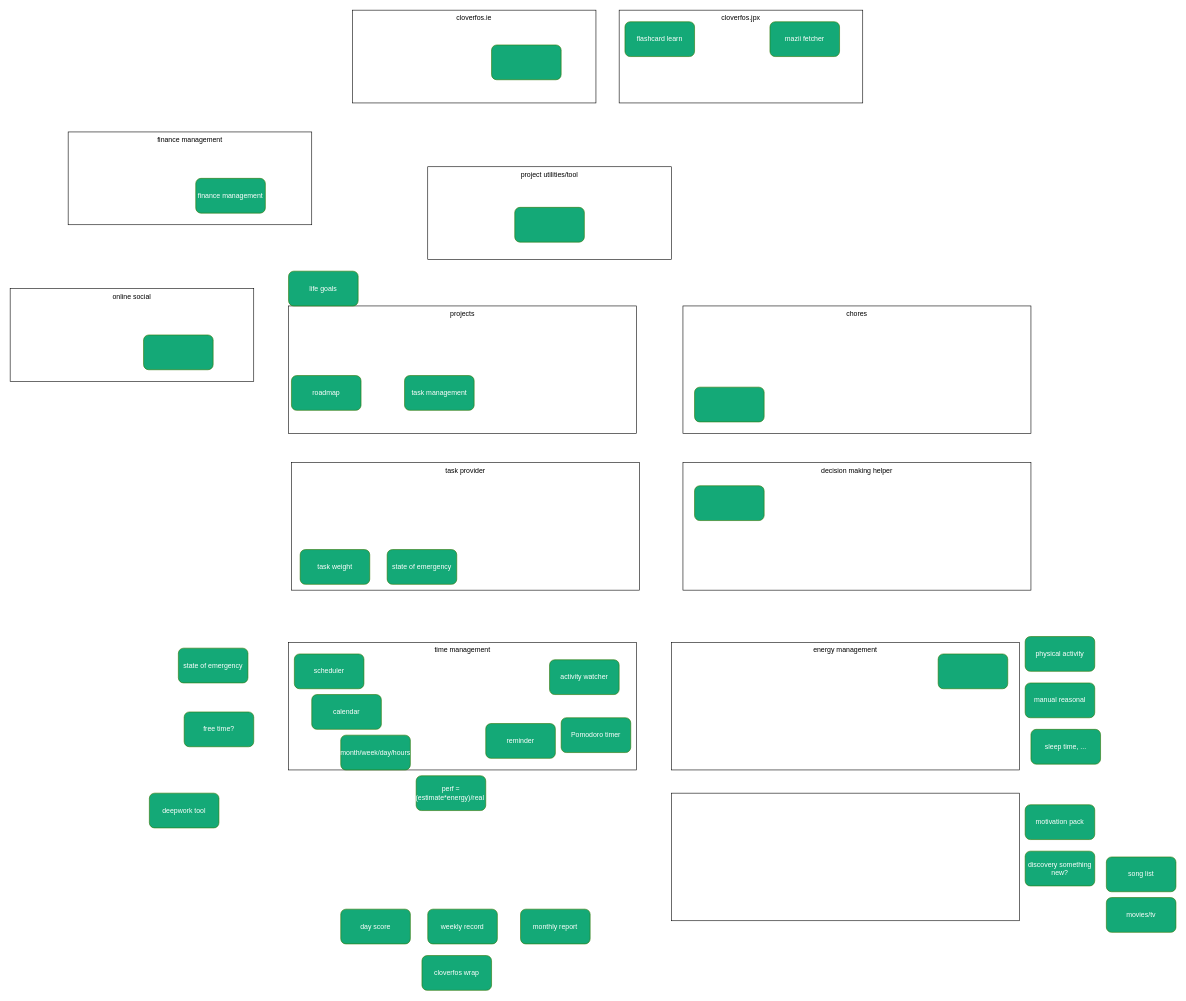
This 1186x1001 diagram has some shape labels left out. Each missing label, with the centre of its shape:
cambridge fetcher: (526,62)
energy booster: (845,857)
energy score calculation algo: (973,671)
meditation +5 energy: (729,404)
social network dashboard: (178,352)
swot analysis: (729,503)
tsunami core (spaced repetive): (549,224)
